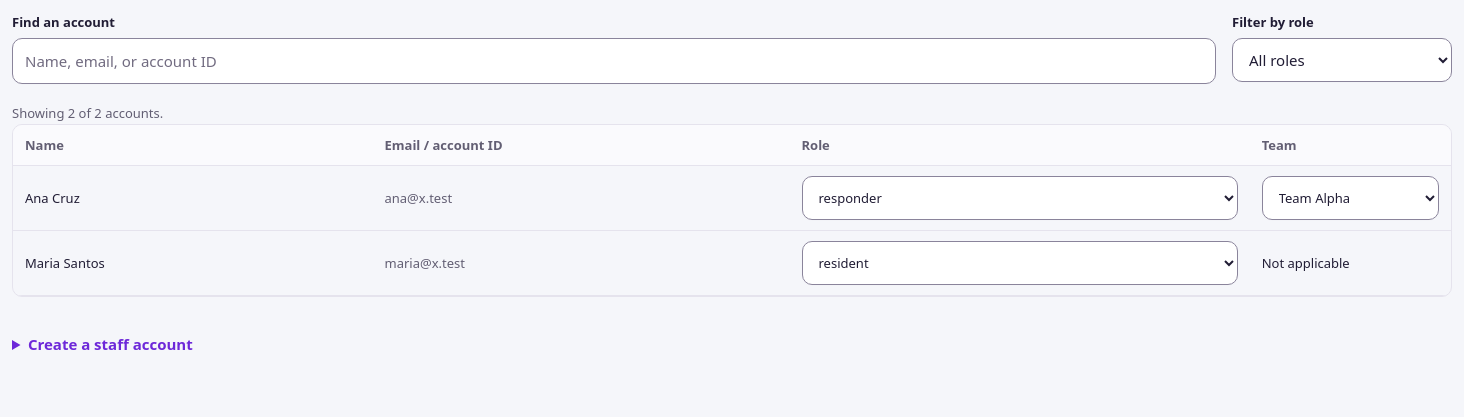
Test: admin accounts team control (F03, audit Finding 8) › a responder can be moved to another team from the accounts table
Step 1. Select "Team Bravo" in the dropdown named "Team for Ana Cruz" → (1350, 198), box [1262,176,1439,220]
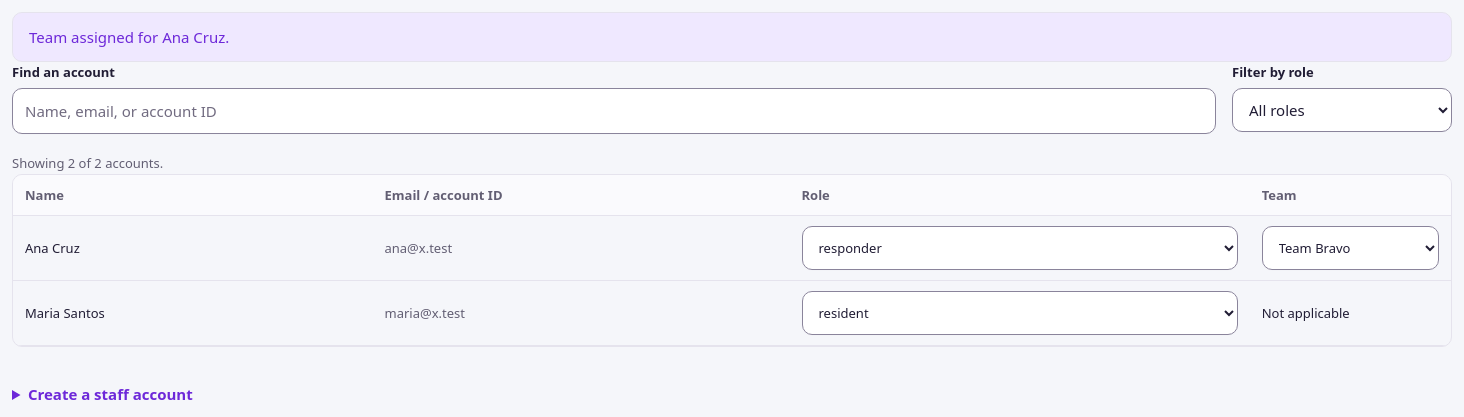
expect the text "Team assigned for Ana Cruz." is shown: met, box [12,12,1452,62]
